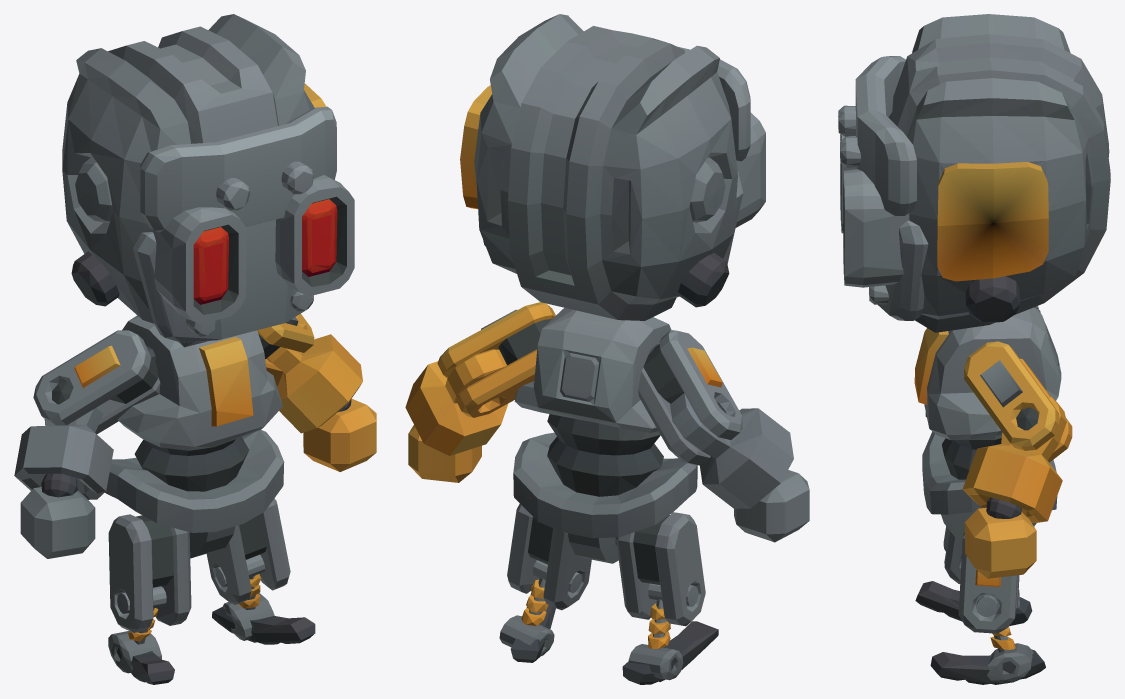
File: robot-one.glb
3 renders of one model, left to right at view 1: azimuth 30°, elevation 25°; view 2: azimuth 150°, elevation 25°; view 3: azimuth 270°, elevation 25°, orthographic. The views are drawn at different scales.
Parts seen in each view (by area): view 1: robot-one; view 2: robot-one; view 3: robot-one.
Part boxes in pixels (x1=…): robot-one: x1=14, y1=14, x2=376, y2=684; robot-one: x1=405, y1=14, x2=809, y2=684; robot-one: x1=838, y1=14, x2=1110, y2=684.
Bounding box in the file's own units: 0.6214 × 1 × 0.41.
